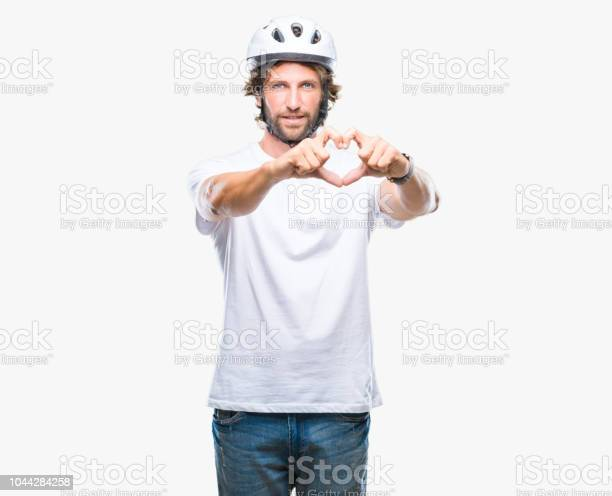helmet: (245, 15, 337, 147)
